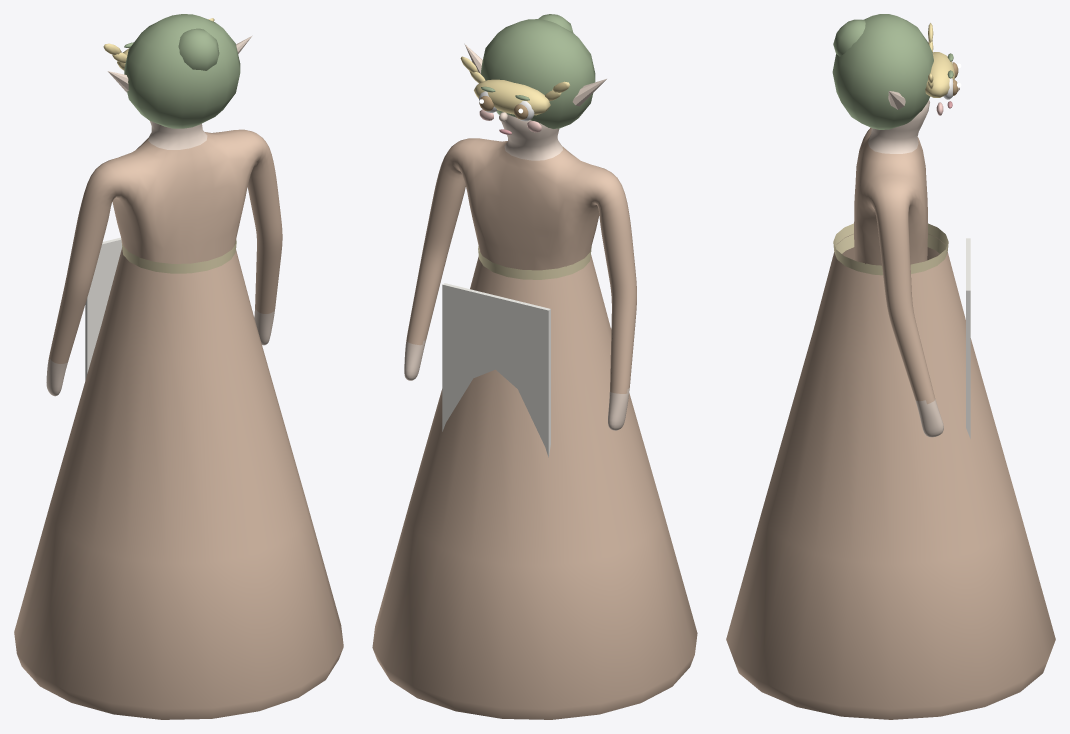
File: servant_cook.gltf
3 renders of one model, left to right at view 1: azimuth 30°, elevation 25°; view 2: azimuth 150°, elevation 25°; view 3: azimuth 270°, elevation 25°, orthographic.
Visible parts, largest first — view 1: servant_cook; view 2: servant_cook; view 3: servant_cook.
Boxes of the visible parts, x1,y1,x2,y2 form: servant_cook: [14, 14, 343, 719]; servant_cook: [372, 14, 697, 719]; servant_cook: [726, 14, 1055, 719].
Size of the model in its own units: 0.7303 by 1.55 by 0.7303.
